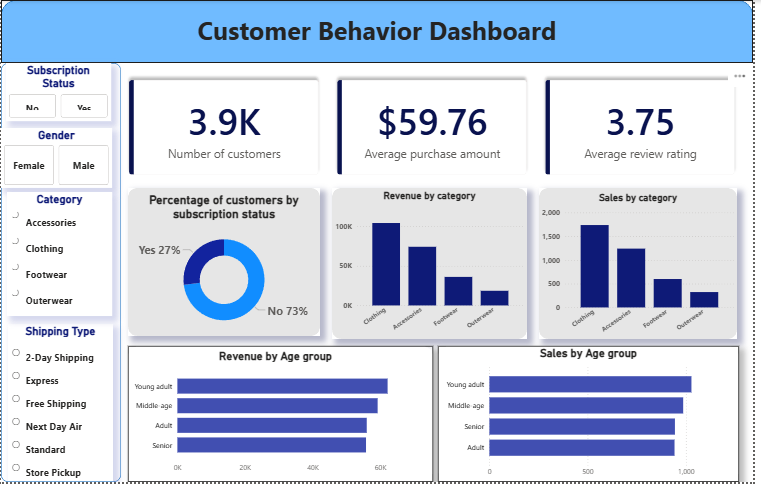

This screenshot's page, from the dashboard's own definition file:
{"tool":"powerbi","page":{"name":"Page 1","canvas":[1280,820],"ordinal":0},"visuals":[{"type":"cardVisual","fields":{"Data":["public customer_details.Number of customers","public customer_details.Average purchase amount","public customer_details.Average review rating"]},"box":[188.8,107.2,1090.5,219.5],"z":0},{"type":"shape","title":"Cus","box":[0,0,1279.3,107.2],"z":1000},{"type":"textbox","box":[173.5,17,920.4,76.6],"z":2000},{"type":"shape","box":[216.1,319.8,326.6,251.8],"z":3000},{"type":"donutChart","title":"Percentage of customers by subscription status","fields":{"Category":["public customer_details.subscription_status"],"Y":["CountNonNull(public customer_details.customer_id)"]},"box":[216.1,328.3,326.6,243.3],"z":4000},{"type":"shape","box":[915.3,319.8,336.8,256.9],"z":5000},{"type":"shape","box":[563.1,319.8,331.7,256.9],"z":6000},{"type":"clusteredColumnChart","title":"Revenue by category","fields":{"Y":["Sum(public customer_details.purchase_amount)"],"Category":["public customer_details.category"]},"box":[563.1,323.2,331.7,248.4],"z":7000},{"type":"clusteredColumnChart","title":"Sales by category","fields":{"Y":["CountNonNull(public customer_details.customer_id)"],"Category":["public customer_details.category"]},"box":[915.3,326.6,336.8,248.4],"z":8000},{"type":"shape","box":[0,107.2,204.1,712.8],"z":9000},{"type":"advancedSlicerVisual","title":"Subscription Status","fields":{"Values":["public customer_details.subscription_status"]},"box":[8.5,107.2,178.6,98.7],"z":10000},{"type":"advancedSlicerVisual","title":"Gender","fields":{"Values":["public customer_details.gender"]},"box":[0,217.8,188.8,102.1],"z":11000},{"type":"listSlicer","title":"Category","fields":{"Values":["public customer_details.category"]},"box":[10.2,326.6,178.6,211],"z":12000},{"type":"shape","box":[216.1,588.6,518.9,231.4],"z":12500},{"type":"shape","box":[743.4,588.6,512.1,231.4],"z":12750},{"type":"listSlicer","title":"Shipping Type","fields":{"Values":["public customer_details.shipping_type"]},"box":[11.9,551.2,178.6,268.8],"z":13000},{"type":"clusteredBarChart","title":"Revenue by Age group","fields":{"Y":["Sum(public customer_details.purchase_amount)"],"Category":["public customer_details.age_group"]},"box":[216.1,593.7,501.9,219.5],"z":15000},{"type":"clusteredBarChart","title":"Sales by Age group","fields":{"Category":["public customer_details.age_group"],"Y":["CountNonNull(public customer_details.customer_id)"]},"box":[746.8,588.6,505.3,231.4],"z":16000}]}

Visuals, with their boxes in screenshot pixels (x1, y1, x2, y2), scaled from the page's 1280x820 canvas onto the 761x488 screenshot:
cardVisual - public customer_details.Number of customers x public customer_details.Average purchase amount: [left=112, top=64, right=760, bottom=194]
"Cus" shape: [left=0, top=0, right=760, bottom=64]
textbox: [left=103, top=10, right=650, bottom=56]
shape: [left=128, top=190, right=323, bottom=340]
"Percentage of customers by subscription status" donutChart: [left=128, top=195, right=323, bottom=340]
shape: [left=544, top=190, right=744, bottom=343]
shape: [left=335, top=190, right=532, bottom=343]
"Revenue by category" clusteredColumnChart: [left=335, top=192, right=532, bottom=340]
"Sales by category" clusteredColumnChart: [left=544, top=194, right=744, bottom=342]
shape: [left=0, top=64, right=121, bottom=487]
"Subscription Status" advancedSlicerVisual: [left=5, top=64, right=111, bottom=123]
"Gender" advancedSlicerVisual: [left=0, top=130, right=112, bottom=190]
"Category" listSlicer: [left=6, top=194, right=112, bottom=320]
shape: [left=128, top=350, right=437, bottom=487]
shape: [left=442, top=350, right=746, bottom=487]
"Shipping Type" listSlicer: [left=7, top=328, right=113, bottom=487]
"Revenue by Age group" clusteredBarChart: [left=128, top=353, right=427, bottom=484]
"Sales by Age group" clusteredBarChart: [left=444, top=350, right=744, bottom=487]
